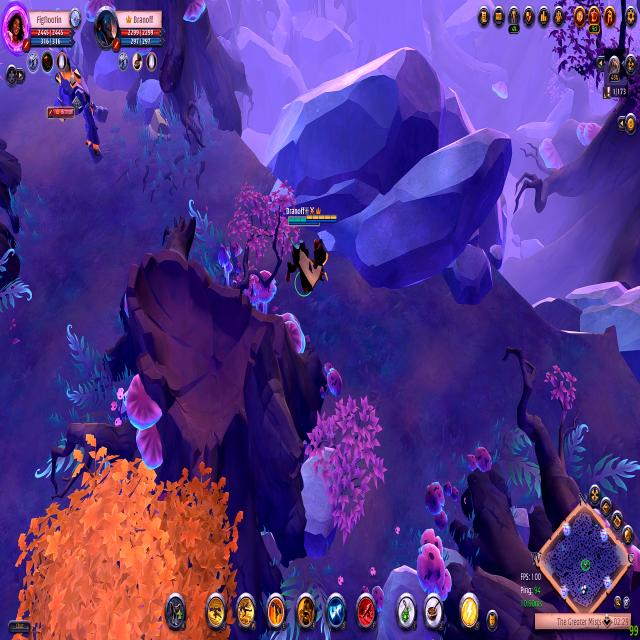ore: (48, 46, 120, 168)
red: (286, 203, 322, 304), (307, 202, 338, 292)
wisp caged: (7, 428, 248, 640)
